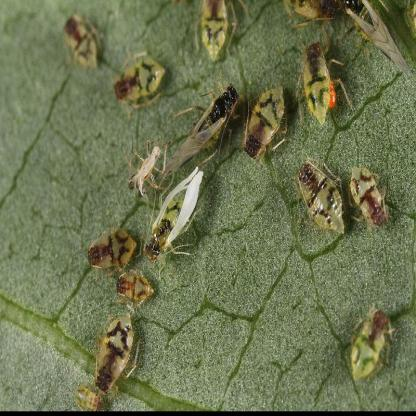aphid: (168, 77, 241, 180), (144, 162, 207, 265), (294, 29, 355, 132), (343, 0, 416, 77), (296, 154, 350, 242), (89, 307, 141, 393), (345, 302, 397, 386), (112, 48, 170, 115), (244, 81, 289, 165), (193, 0, 245, 59), (348, 162, 390, 232), (127, 134, 171, 200), (84, 220, 137, 274), (63, 8, 102, 77), (111, 260, 159, 308), (281, 1, 337, 30), (74, 374, 100, 416)
